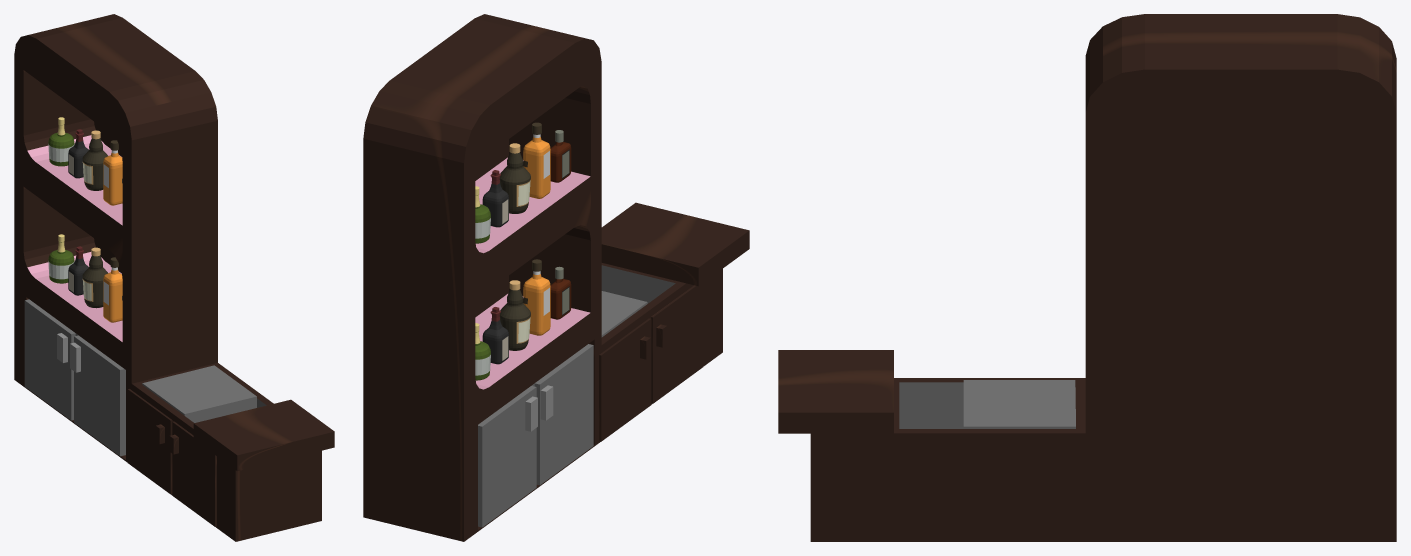
Rendered from shelf.fbx.
3 views of the same model, side by side, from view 1: azimuth 30°, elevation 25°; view 2: azimuth 150°, elevation 25°; view 3: azimuth 270°, elevation 25° (orthographic). The views are drawn at different scales.
Visible parts, largest first — view 1: shelf; view 2: shelf; view 3: shelf.
Part boxes in pixels (left/top/right/bottom): shelf: left=14, top=14, right=334, bottom=541; shelf: left=363, top=14, right=749, bottom=541; shelf: left=778, top=14, right=1396, bottom=541.
Size of the model in its own units: 226 by 793 by 940.
Materials: 38 (1 with a texture image).
